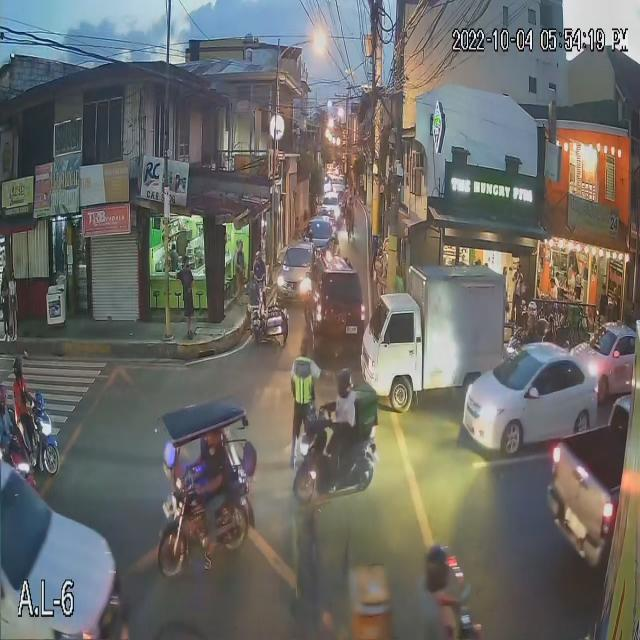helmet: (425, 543, 451, 593), (335, 367, 355, 397), (12, 356, 26, 375), (527, 302, 538, 320)
motorcycle: (291, 418, 377, 502), (0, 389, 61, 472)
rider: (323, 391, 358, 492), (410, 578, 457, 640), (10, 374, 40, 466), (524, 315, 539, 343)
